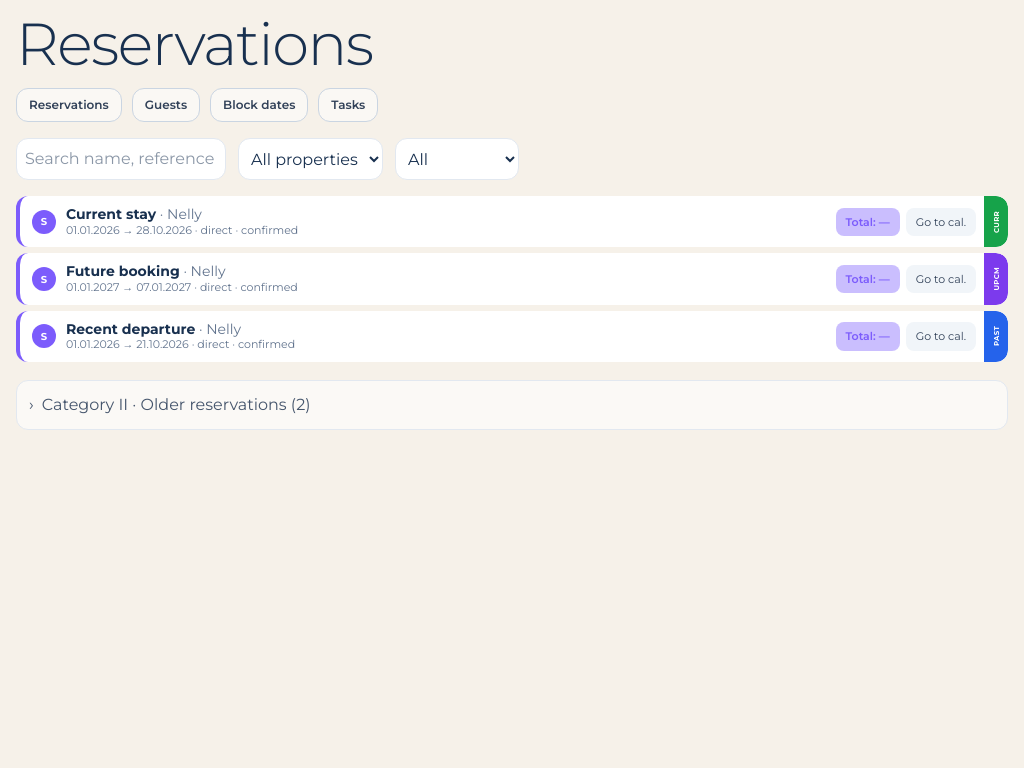
it: reservation age categories › collapses completed stays after seven days and archives all sources after three calendar months
This screenshot has width=1024, height=768.
Check: the text "Current stay" is shown, box [66,206,156,223]
Check: the text "Recent departure" is shown, box [66,321,195,338]
Click the button "› Category II · Older reservations (2)" at (164, 404), box [16,380,1008,430]
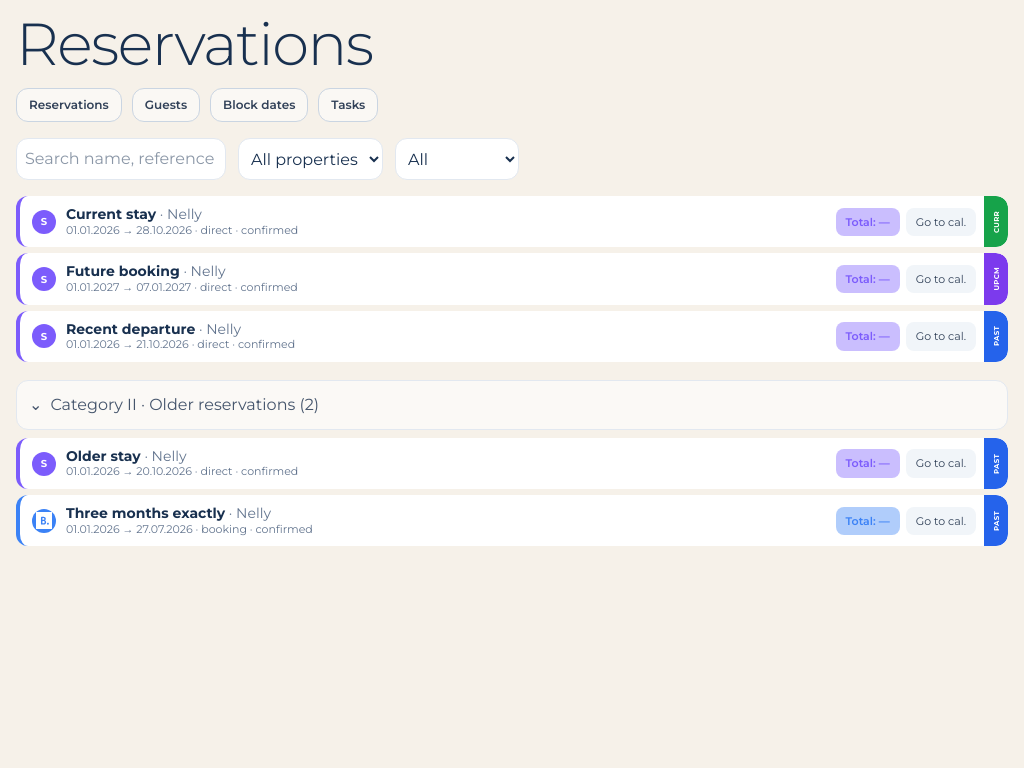
Check: the button "⌄ Category II · Older reservations (2)" is expanded
Check: the text "Older stay" is shown, box [66,448,141,465]
Check: the text "Three months exactly" is shown, box [66,505,225,522]
Click the button "⌄ Category II · Older reservations (2)" at (173, 404), box [16,380,1008,430]
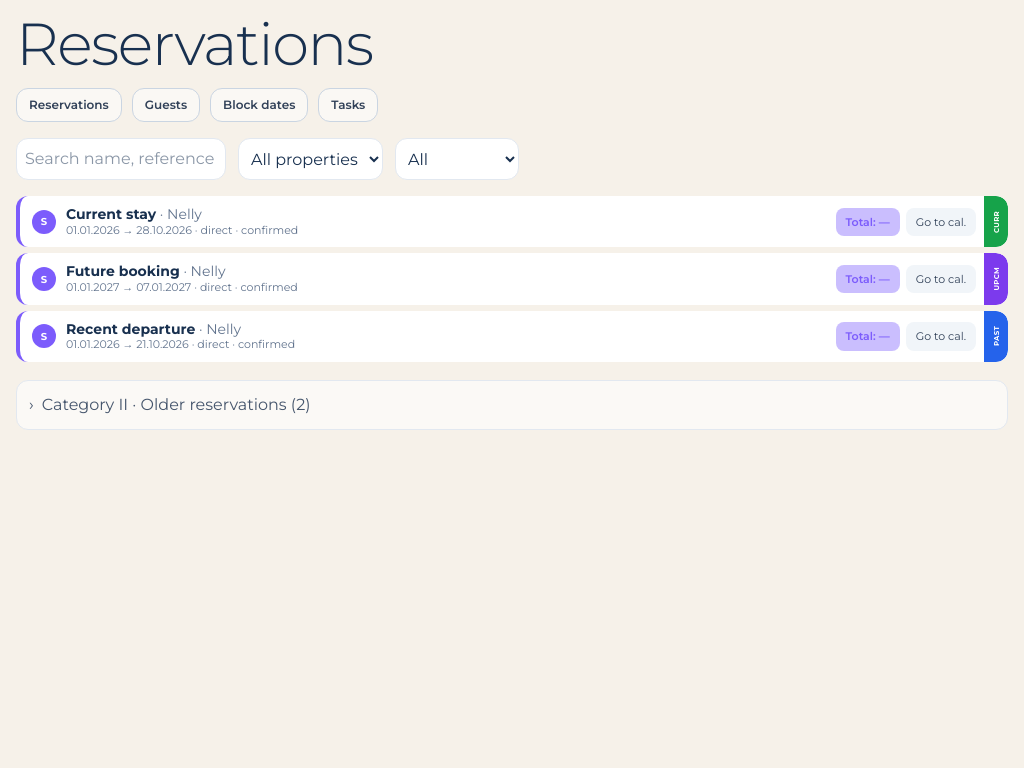
Check: the text "Older stay" is gone
Select "Archived" in the dropdown named "Reservation filter" at (457, 159), box [395,138,519,180]
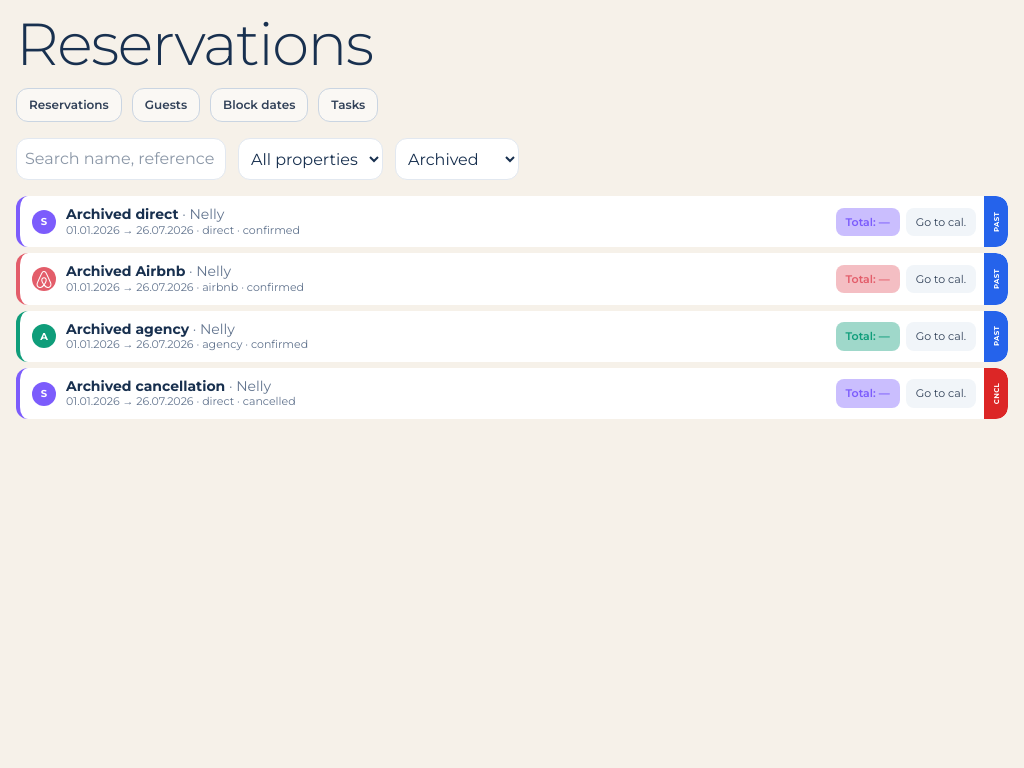
Check: the text "Archived direct" is shown, box [66,206,178,223]
Check: the text "Archived Airbnb" is shown, box [66,264,185,280]
Check: the text "Archived agency" is shown, box [66,321,189,338]
Type "Archived agency" into the field labelled "Search" at (121, 159), box [16,138,226,180]
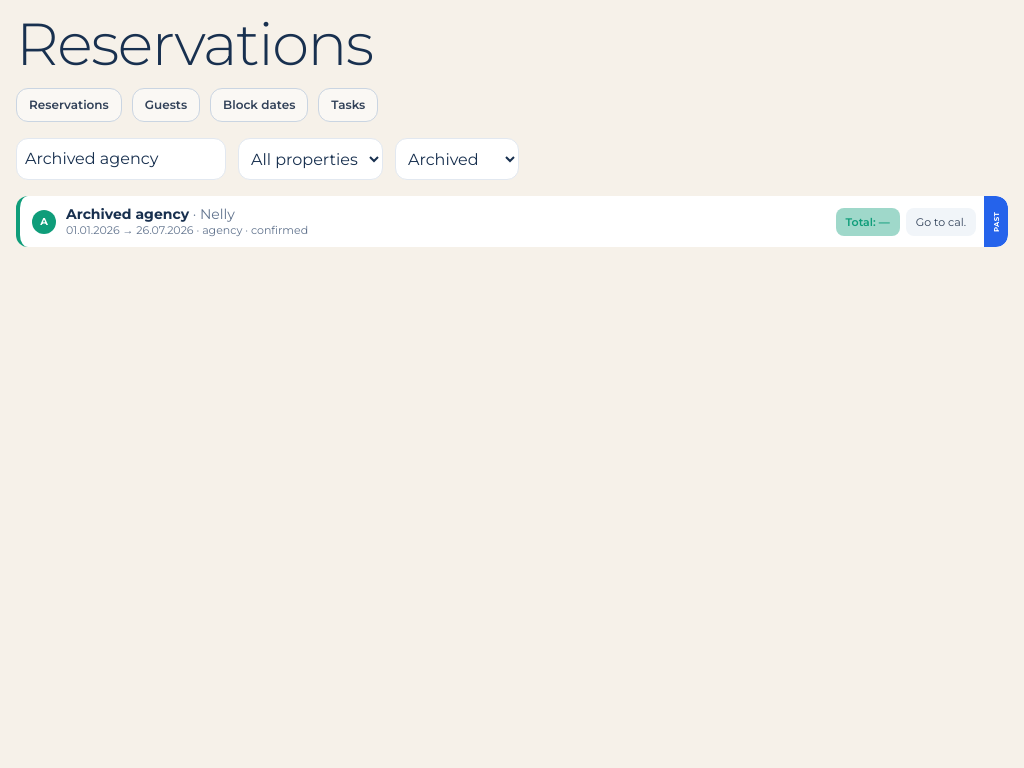
Check: the text "Archived agency" is shown, box [66,206,189,223]
Check: the text "Archived direct" is gone
